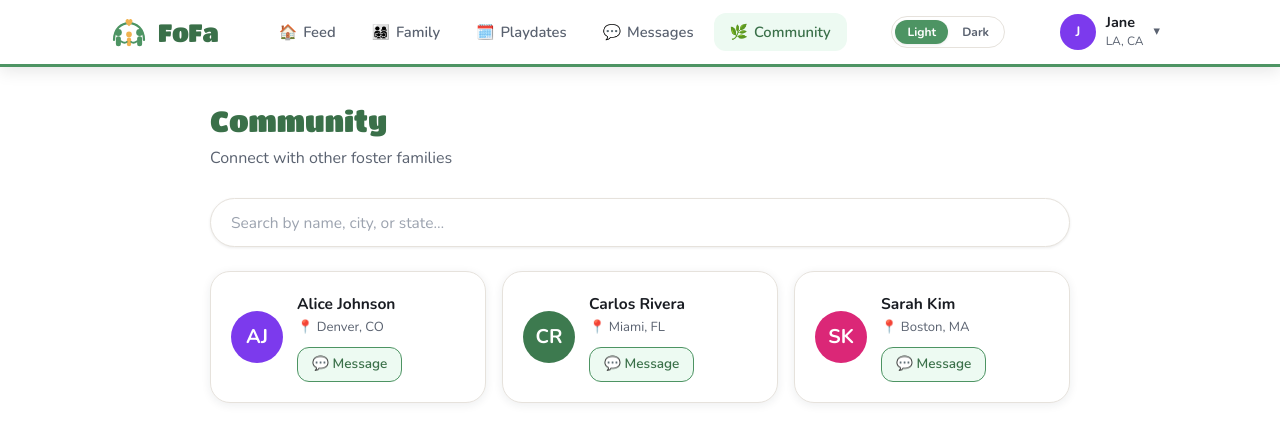
UC-07: Community & Navigation › shows empty state when no members found
The image size is (1280, 421).
Step 1. Type "zzz-nobody" into the field with placeholder "Search by name, city, or state…" → (640, 223), box [210,198,1070,247]
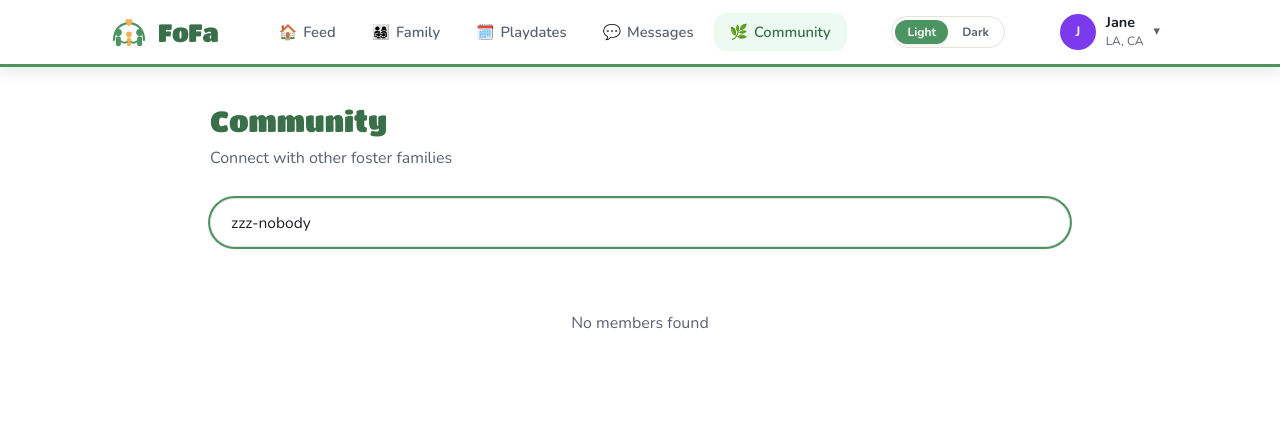
Expected: the text "No members found" is shown, [571,312,709,334]
